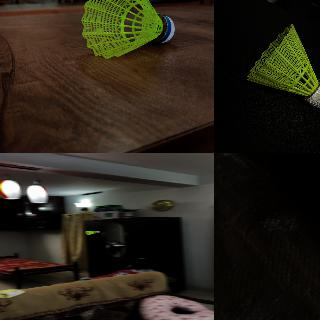shuttlecock: (246, 23, 319, 108), (81, 0, 174, 60), (84, 231, 99, 235)
